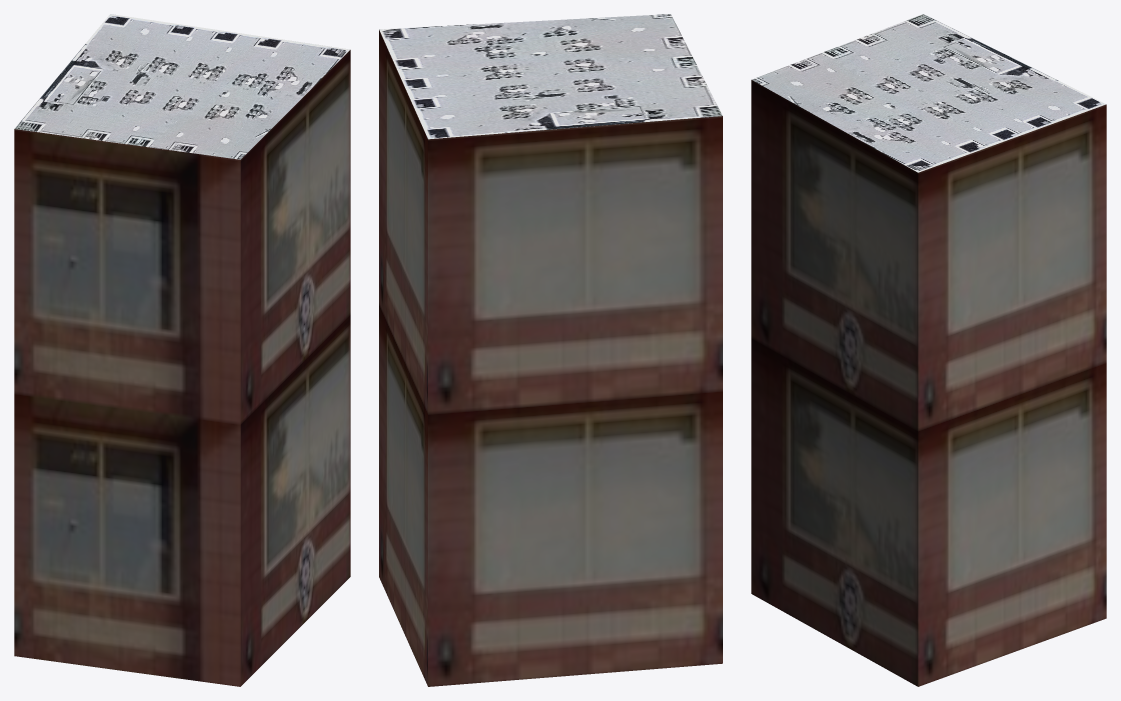
The model's file is ResTex__2934.fbx.
3 renders of one model, left to right at view 1: azimuth 30°, elevation 25°; view 2: azimuth 150°, elevation 25°; view 3: azimuth 270°, elevation 25°, orthographic. The views are drawn at different scales.
Parts seen in each view (by area): view 1: CityEngineMaterial_13_m, CityEngineMaterial_4_m; view 2: CityEngineMaterial_13_m, CityEngineMaterial_4_m; view 3: CityEngineMaterial_13_m, CityEngineMaterial_4_m.
Part boxes in pixels (x1,y1,x2,y2): CityEngineMaterial_13_m: [14, 50, 350, 686]; CityEngineMaterial_4_m: [14, 14, 349, 159]; CityEngineMaterial_13_m: [379, 30, 722, 686]; CityEngineMaterial_4_m: [379, 14, 722, 139]; CityEngineMaterial_13_m: [751, 80, 1106, 686]; CityEngineMaterial_4_m: [752, 14, 1105, 172].
Size of the model in its own units: 3.97 by 6 by 3.76.
Materials: 2 (2 with a texture image).
